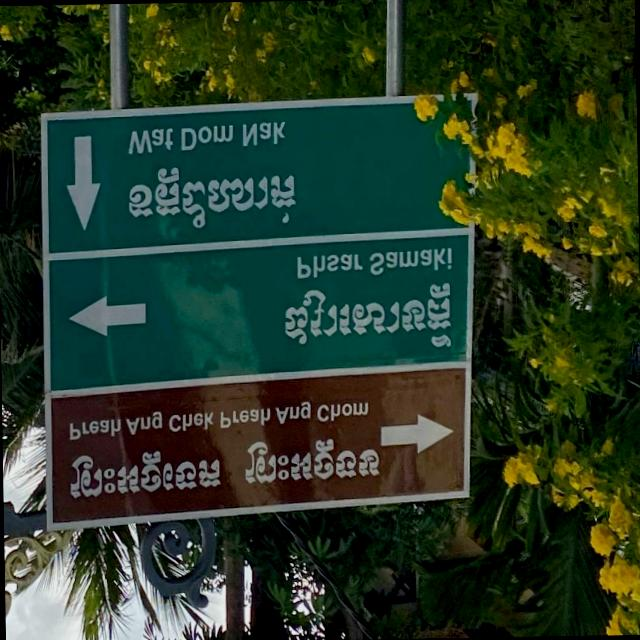1: (61, 419, 388, 508)
Yolov11kh: (112, 143, 305, 237), (268, 274, 461, 362)
